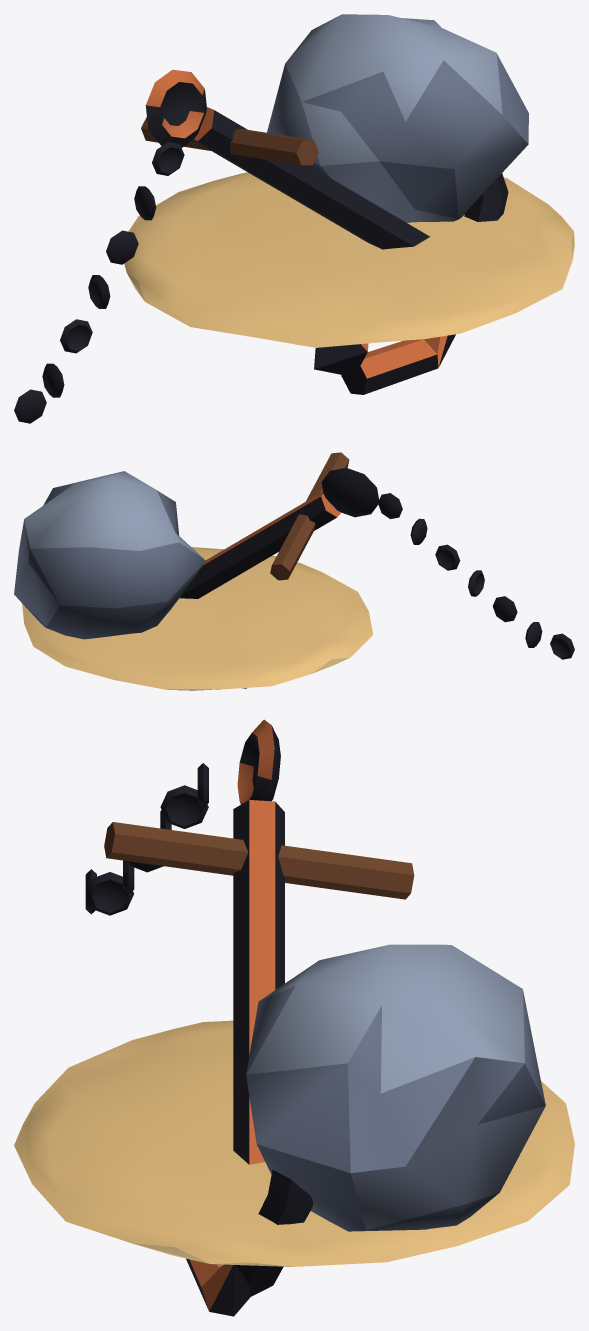
The model's file is AnchorRock.fbx.
3 views of the same model, one above another, from view 1: azimuth 30°, elevation 25°; view 2: azimuth 150°, elevation 25°; view 3: azimuth 270°, elevation 25° (orthographic). The views are drawn at different scales.
Visible parts, largest first — view 1: AnchorRock; view 2: AnchorRock; view 3: AnchorRock.
Part boxes in pixels (bbox=[...]): AnchorRock: bbox=[14, 14, 574, 423]; AnchorRock: bbox=[14, 452, 574, 690]; AnchorRock: bbox=[14, 719, 574, 1316].
Size of the model in its own units: 2.44 by 1.31 by 1.5.
Materials: 1 (1 with a texture image).
